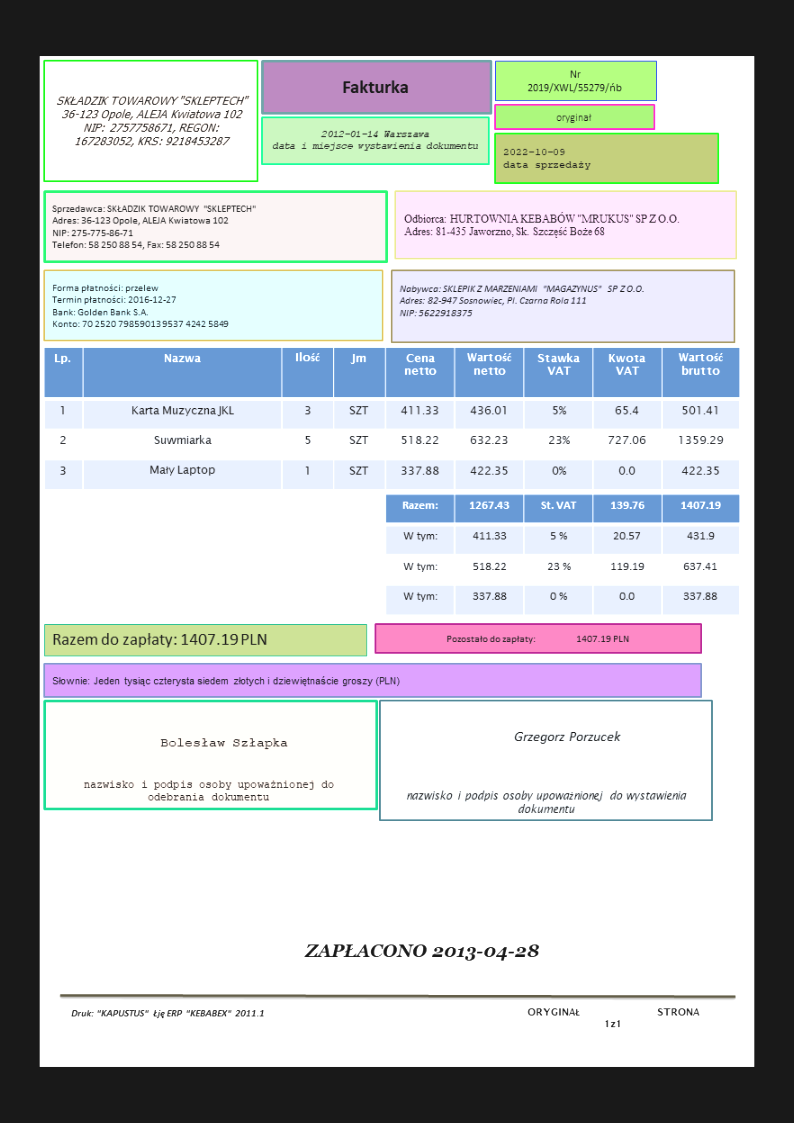Table: (42, 345, 740, 492), (384, 491, 742, 617)
TextBox: (54, 92, 252, 148), (50, 200, 258, 251), (397, 281, 646, 321), (49, 279, 230, 331), (401, 208, 681, 239), (404, 788, 689, 818), (80, 777, 337, 802), (301, 939, 542, 965), (270, 127, 481, 153), (50, 673, 402, 688), (524, 1003, 704, 1032), (49, 629, 268, 649), (443, 630, 632, 647), (69, 1005, 266, 1021), (525, 65, 622, 96), (157, 733, 288, 753), (500, 145, 593, 173), (511, 728, 623, 745), (338, 77, 410, 97), (554, 111, 594, 125)
